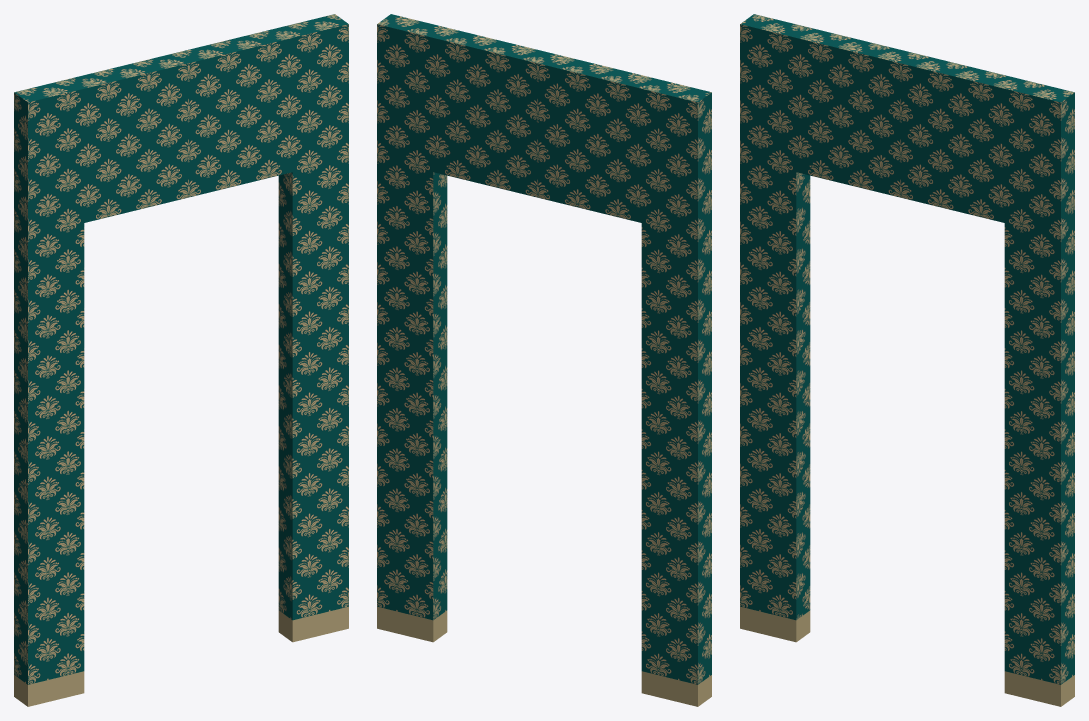
File: ARC0210012.fbx
The picture shows the model from 3 angles, left to right: view 1: azimuth 30°, elevation 25°; view 2: azimuth 150°, elevation 25°; view 3: azimuth 330°, elevation 25°; orthographic projection.
Visible parts, largest first — view 1: smARC0210012; view 2: smARC0210012; view 3: smARC0210012.
Boxes of the visible parts, bbox=[...] form: smARC0210012: bbox=[14, 14, 348, 706]; smARC0210012: bbox=[377, 14, 711, 706]; smARC0210012: bbox=[740, 14, 1074, 706].
Bounding box in the file's own units: 182 × 328 × 13.67.
1 material, 1 textured.
